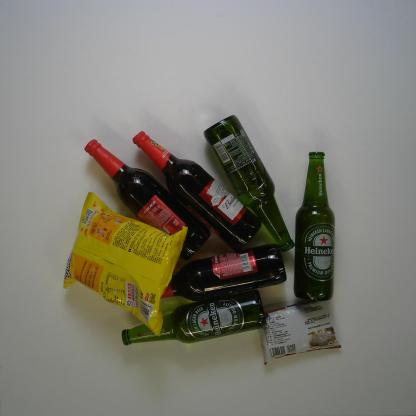Alcohol: (83, 138, 212, 264), (131, 129, 263, 252), (203, 113, 297, 254), (121, 288, 268, 347), (160, 243, 287, 304), (292, 150, 337, 302)
Puffed Food: (61, 190, 189, 338)
Seasoner: (257, 300, 342, 366)
